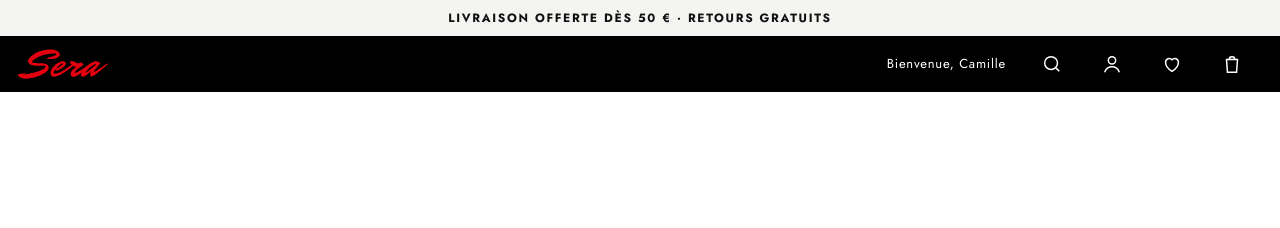
Test: Header (dropdown du compte) › propose « Paramètres » puis « Se déconnecter », dans une liste sans rôle menu
Expected: the text "Bienvenue, Camille" is shown, [887,54,1006,74]
Click the button named "Mon compte" at coordinates (1112, 64), box [1090,42,1134,86]
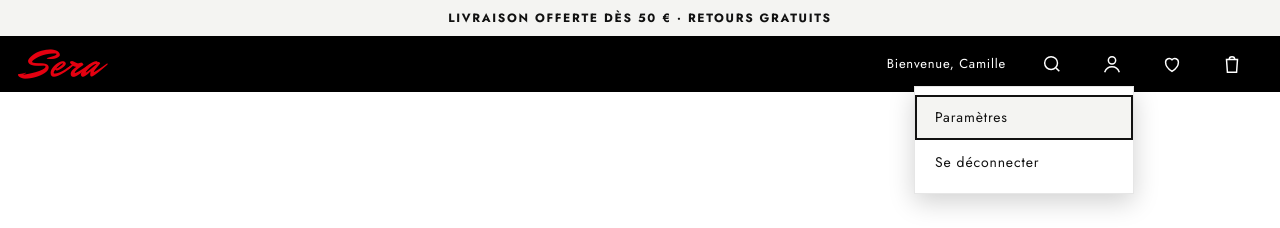
Expected: the number of list items is 2, [915,95,1133,140]; [915,140,1133,185]
Expected: the list item "Paramètres" is shown, [915,95,1133,140]
Expected: the list item "Se déconnecter" is shown, [915,140,1133,185]
